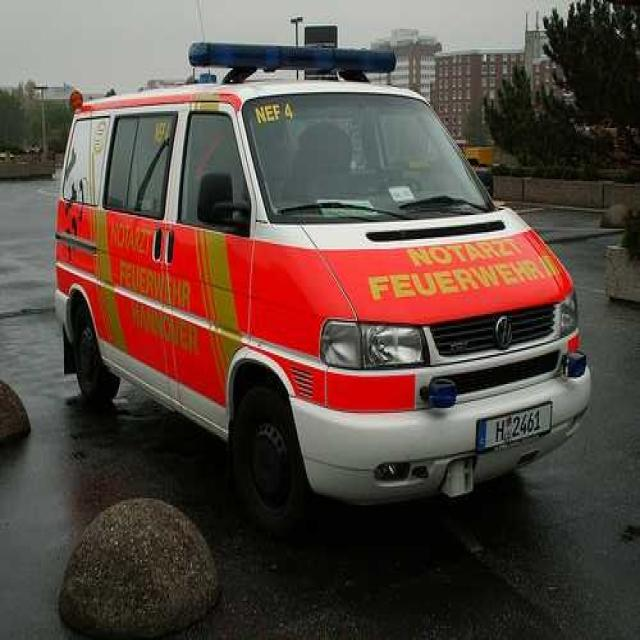ambulance: (45, 29, 603, 521)
